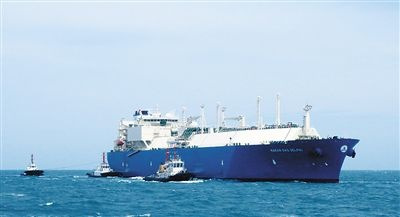Cargoship: (109, 91, 361, 185)
otherboat: (144, 152, 194, 183), (85, 152, 123, 178), (21, 155, 43, 178)
